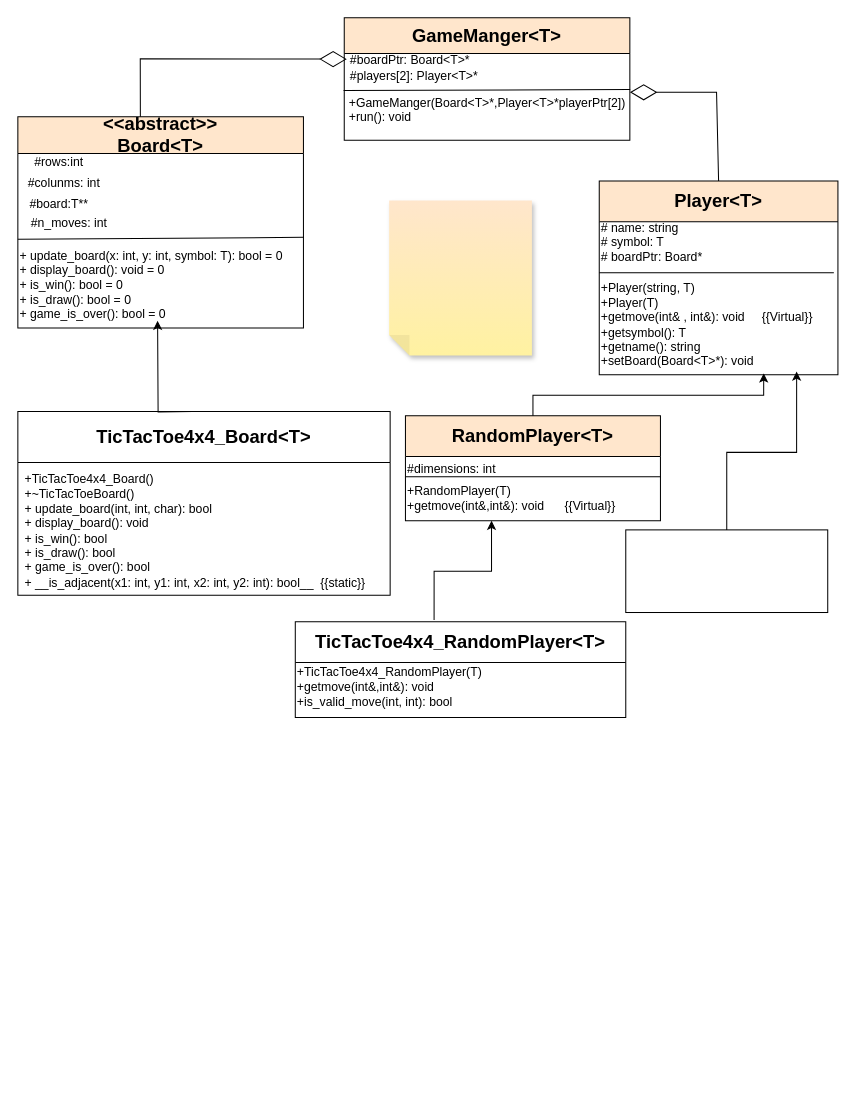
Some shapes in this 856 by 1094 pixel diagram are drawn without their labels. Here are the shapes that lost their labels. From the top down, the centre of each, then its label:
pixel 461 279: Global Variables ----------------- globalX1: int globalY1: int
pixel 726 571: TicTacToe4x4_Player<T> +TicTacToe4x4_Player() +getmove(int&, int&):void
